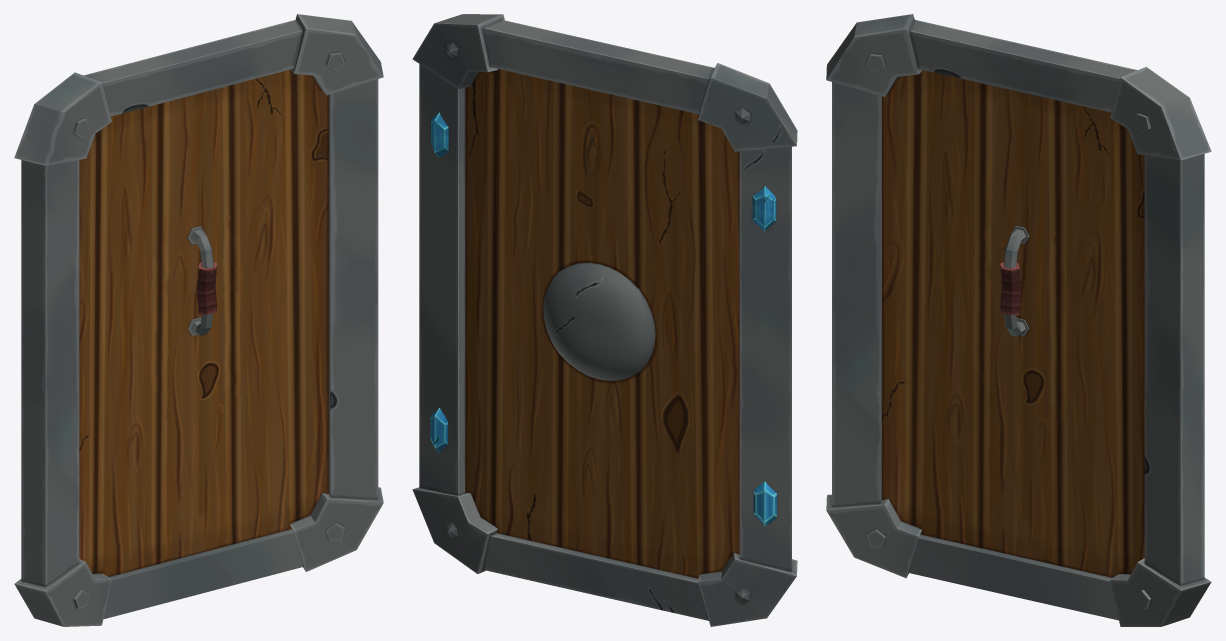
The model's file is Stylized_Magic_Shield.glb.
The picture shows the model from 3 angles, left to right: view 1: azimuth 30°, elevation 25°; view 2: azimuth 150°, elevation 25°; view 3: azimuth 330°, elevation 25°; orthographic projection.
Visible parts, largest first — view 1: shield5_shield5_0, shield5_shield5 metall_0; view 2: shield5_shield5_0, shield5_shield5 metall_0, shield5_shield5 crystall_0; view 3: shield5_shield5_0, shield5_shield5 metall_0.
Boxes of the visible parts, left/top/right/bottom form: shield5_shield5_0: left=79, top=69, right=330, bottom=576; shield5_shield5 metall_0: left=14, top=14, right=383, bottom=626; shield5_shield5_0: left=458, top=69, right=739, bottom=582; shield5_shield5 metall_0: left=412, top=14, right=797, bottom=626; shield5_shield5 crystall_0: left=430, top=112, right=776, bottom=526; shield5_shield5_0: left=882, top=70, right=1144, bottom=577; shield5_shield5 metall_0: left=826, top=14, right=1211, bottom=626.
Bounding box in the file's own units: 0.6781 × 0.9424 × 0.1061.
Materials: 3 (3 with a texture image).
